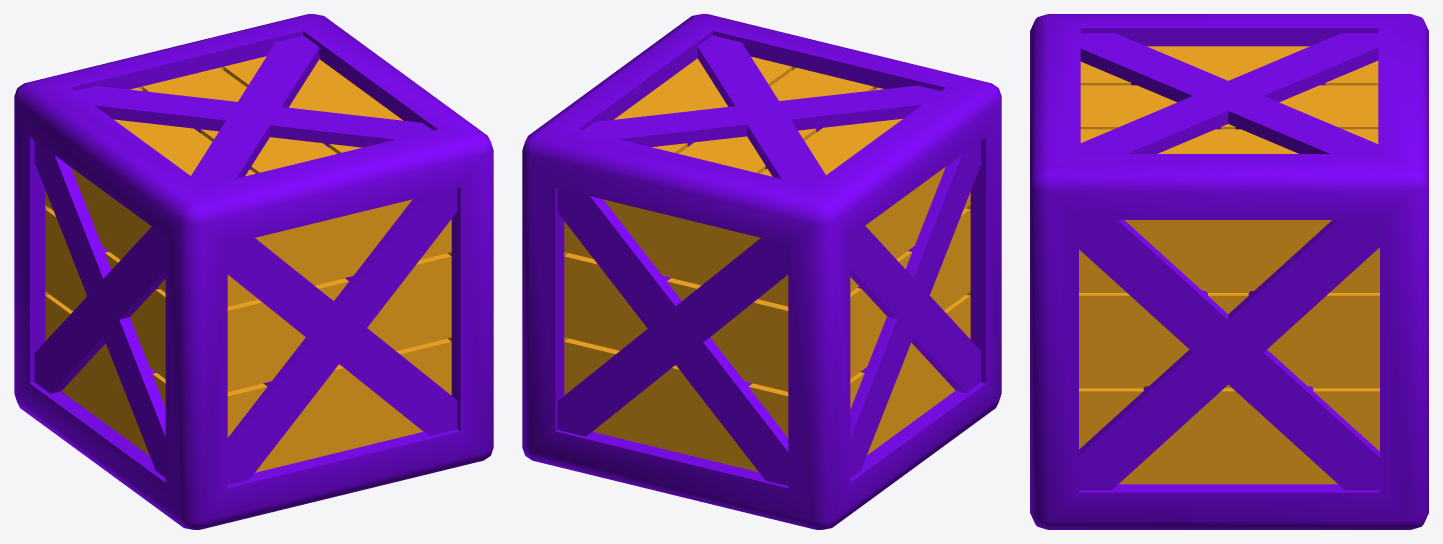
The model's file is Crate_03.fbx.
3 views of the same model, side by side, from view 1: azimuth 30°, elevation 25°; view 2: azimuth 150°, elevation 25°; view 3: azimuth 270°, elevation 25° (orthographic). The views are drawn at different scales.
Visible parts, largest first — view 1: Obstacle_Crate_03; view 2: Obstacle_Crate_03; view 3: Obstacle_Crate_03.
Boxes of the visible parts, x1,y1,x2,y2 form: Obstacle_Crate_03: (14,14,493,529); Obstacle_Crate_03: (522,14,1001,529); Obstacle_Crate_03: (1030,14,1428,529).
Bounding box in the file's own units: 50 × 50 × 50.
Materials: 1 (1 with a texture image).
